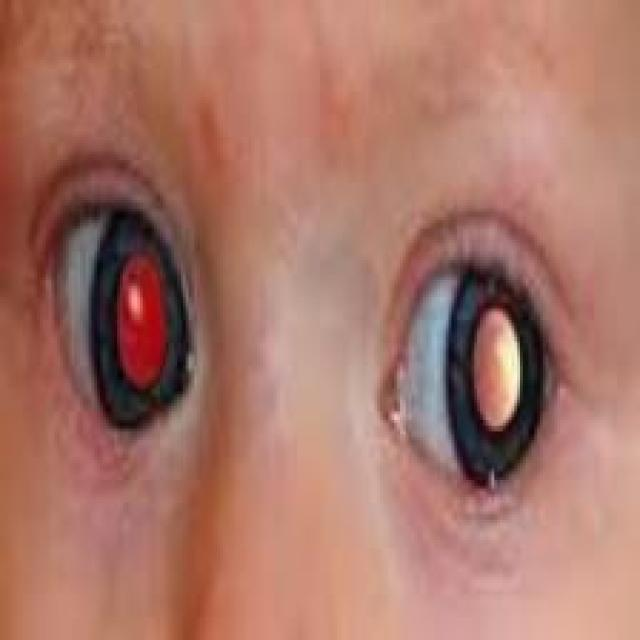reflexo-alterado: (386, 197, 584, 518)
reflexo-normal: (13, 137, 218, 448)
